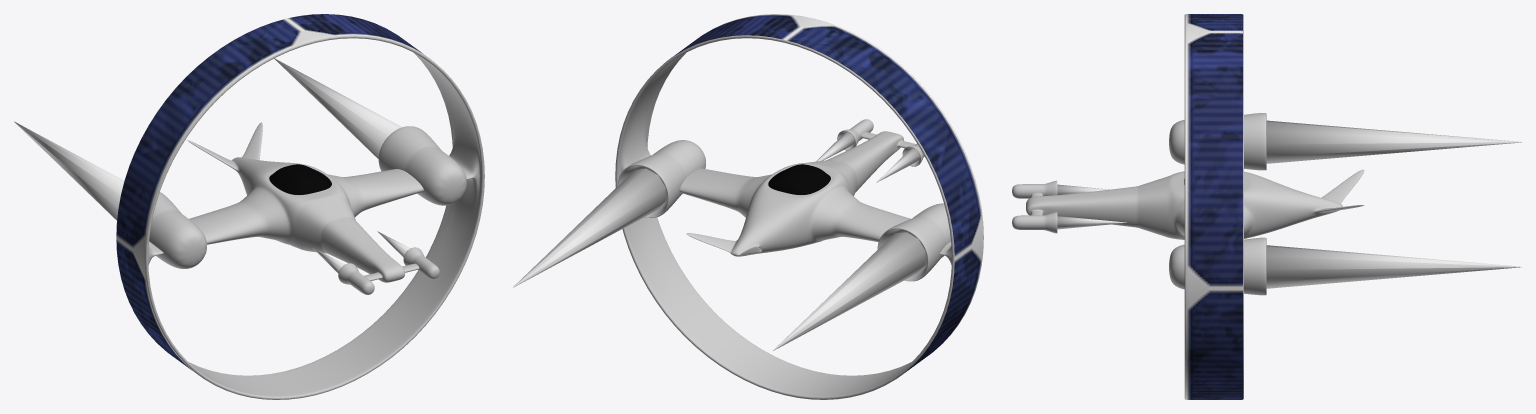
The model's file is space ship.fbx.
The picture shows the model from 3 angles, left to right: view 1: azimuth 30°, elevation 25°; view 2: azimuth 150°, elevation 25°; view 3: azimuth 270°, elevation 25°; orthographic projection.
Parts seen in each view (by area): view 1: Circle, Circle.004, Circle.005, Circle.001, Circle.003; view 2: Circle, Circle.004, Circle.005, Circle.001, Circle.003, Circle.002, Circle.006; view 3: Circle.004, Circle, Circle.005, Circle.001, Circle.006.
Boxes of the visible parts, x1,y1,x2,y2 form: Circle: [116, 29, 484, 399]; Circle.004: [116, 14, 448, 384]; Circle.005: [274, 58, 401, 158]; Circle.001: [14, 121, 124, 220]; Circle.003: [269, 164, 331, 194]; Circle: [615, 31, 983, 399]; Circle.004: [657, 14, 983, 378]; Circle.005: [513, 168, 665, 287]; Circle.001: [773, 232, 925, 350]; Circle.003: [768, 164, 830, 194]; Circle.002: [876, 148, 920, 182]; Circle.006: [816, 132, 855, 161]; Circle.004: [1185, 14, 1242, 399]; Circle: [1012, 14, 1364, 399]; Circle.005: [1266, 245, 1521, 288]; Circle.001: [1266, 120, 1521, 163]; Circle.006: [1057, 216, 1127, 229].
Bounding box in the file's own units: 4656 × 4658 × 6147.
